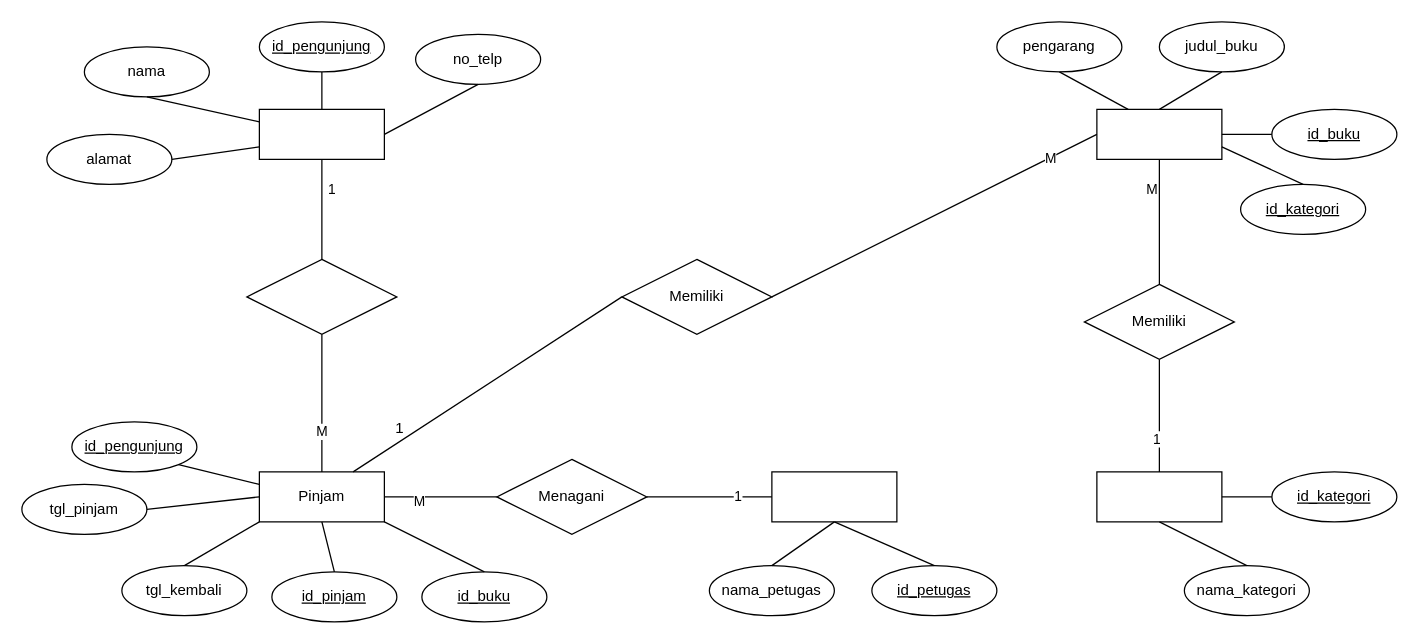
The diagram is 1419 pixels wide and 644 high, and some of its shapes have lost their labels. The shapes that lost their labels are listed below. From the top down, each one's centre as x and y in pixels, then its label:
At point 321,133: "Pengunjung".
At point 1159,133: "Buku".
At point 321,296: "Dapat".
At point 834,496: "Petugas".
At point 1159,496: "Kategori".
